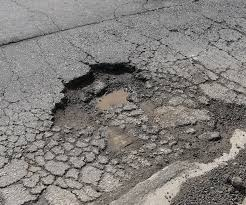pothole: (47, 46, 239, 176)
